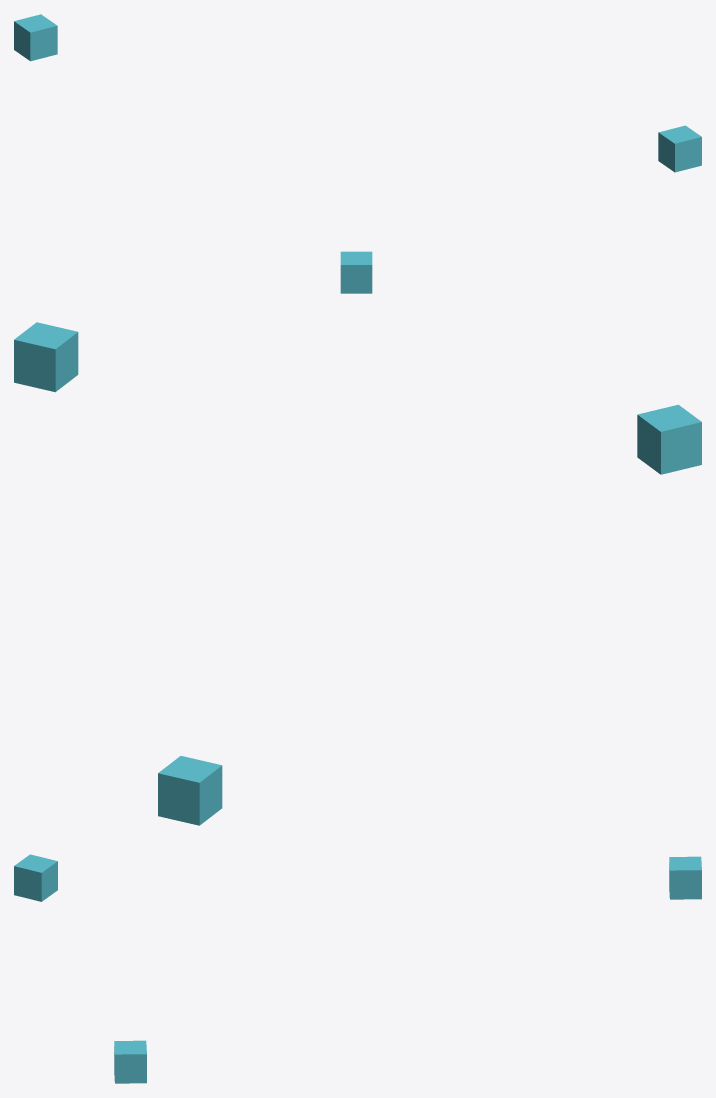
Rendered from 43_chimney.glb.
3 renders of one model, top to bottom at view 1: azimuth 30°, elevation 25°; view 2: azimuth 150°, elevation 25°; view 3: azimuth 270°, elevation 25°, orthographic. The views are drawn at different scales.
Parts seen in each view (by area): view 1: Box002, Box003, Box004; view 2: Box003, Box004, Box002; view 3: Box004, Box002, Box003.
Boxes of the visible parts, x1=… form: Box002: x1=14, y1=14, x2=57, y2=61; Box003: x1=658, y1=125, x2=701, y2=172; Box004: x1=340, y1=251, x2=372, y2=293; Box003: x1=14, y1=322, x2=78, y2=392; Box004: x1=637, y1=404, x2=701, y2=474; Box002: x1=158, y1=756, x2=222, y2=825; Box004: x1=14, y1=854, x2=57, y2=901; Box002: x1=669, y1=856, x2=701, y2=899; Box003: x1=114, y1=1040, x2=146, y2=1083.
Size of the model in its own units: 12.2 by 0.8581 by 17.81.
